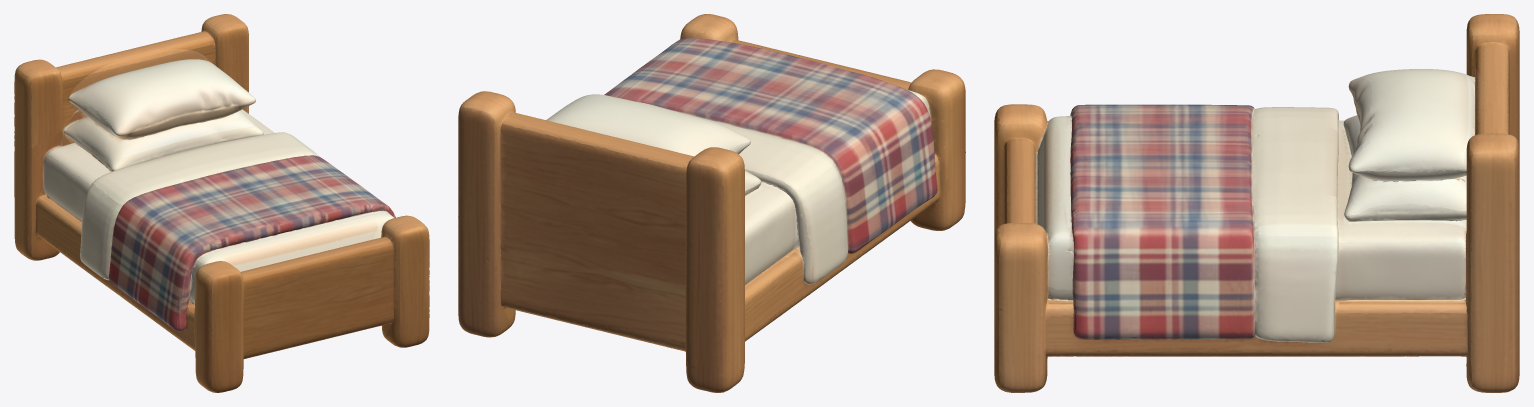
The model's file is fur_bed_cozy_01.glb.
3 renders of one model, left to right at view 1: azimuth 30°, elevation 25°; view 2: azimuth 150°, elevation 25°; view 3: azimuth 270°, elevation 25°, orthographic. The views are drawn at different scales.
Visible parts, largest first — view 1: geometry_0; view 2: geometry_0; view 3: geometry_0.
Boxes of the visible parts, x1,y1,x2,y2 form: geometry_0: (14,14,429,392); geometry_0: (458,14,965,392); geometry_0: (994,14,1519,392).
Size of the model in its own units: 1.6 by 1.24 by 2.38.
1 material, 1 textured.
